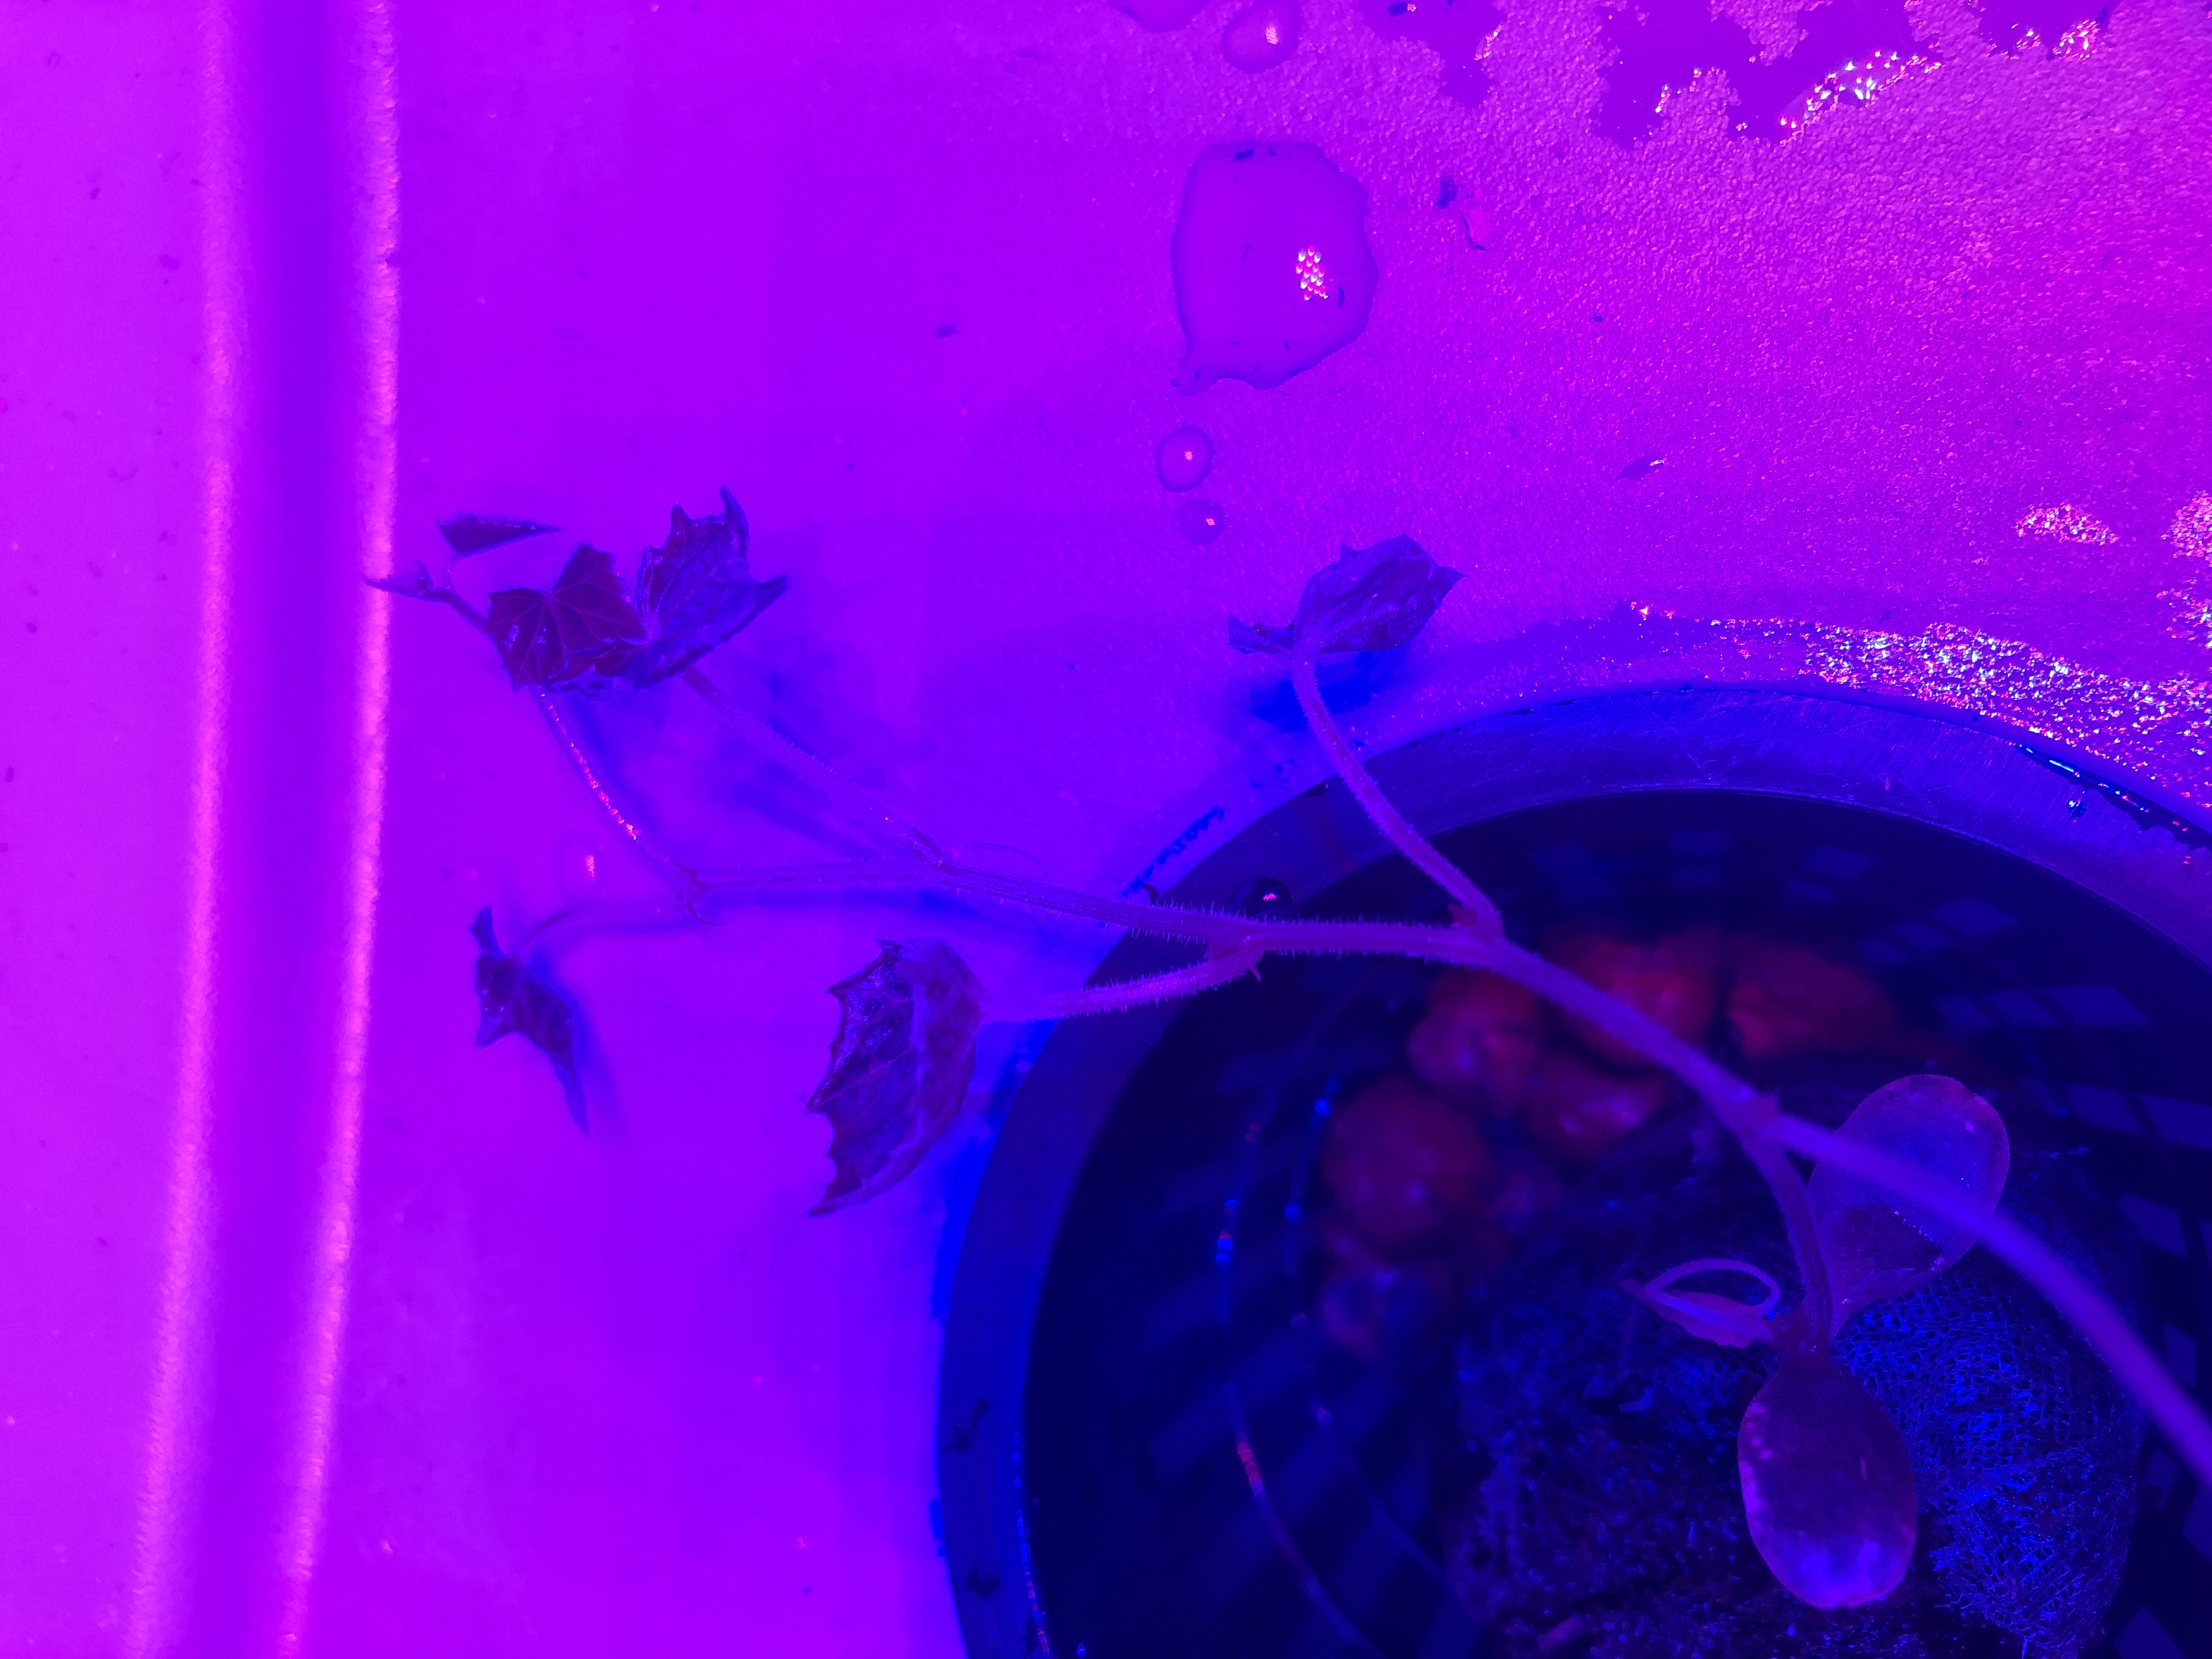cup: (869, 697, 2212, 1621)
lil_plant: (352, 483, 1524, 957)
